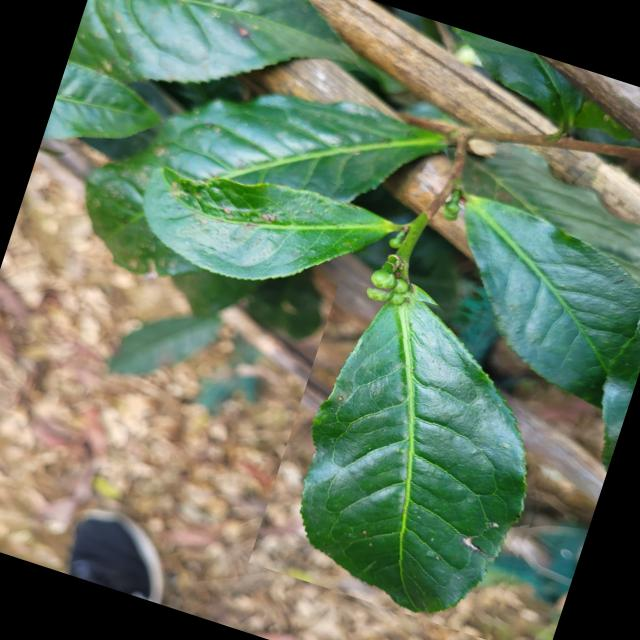Category D 7+ days, Not for Tea: (248, 265, 595, 640)
